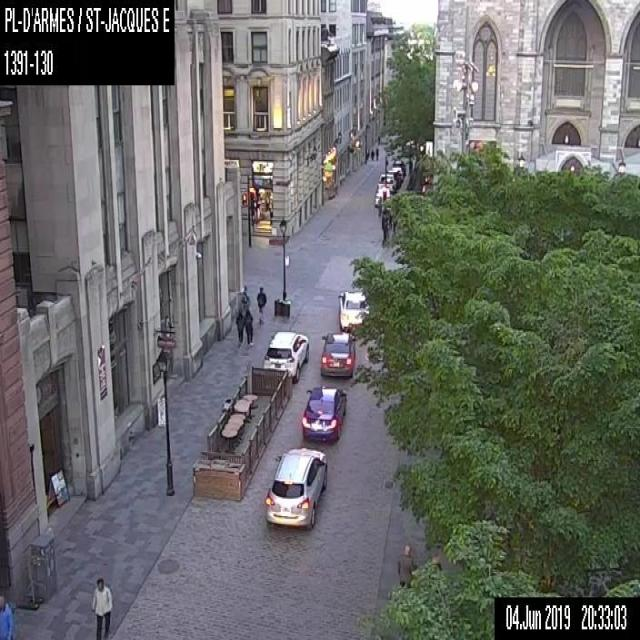pedestrian: (91, 576, 112, 639), (395, 542, 416, 586), (0, 590, 15, 638), (243, 308, 254, 345), (256, 285, 266, 323), (379, 215, 390, 245), (234, 308, 243, 342), (240, 284, 250, 308), (370, 148, 374, 160), (375, 145, 378, 159)
vehicle: (264, 447, 326, 529), (301, 384, 346, 441), (262, 329, 308, 382), (319, 332, 356, 377), (337, 288, 369, 331), (376, 173, 396, 192), (374, 187, 390, 206), (386, 169, 400, 187), (392, 160, 406, 176), (390, 166, 402, 181)
